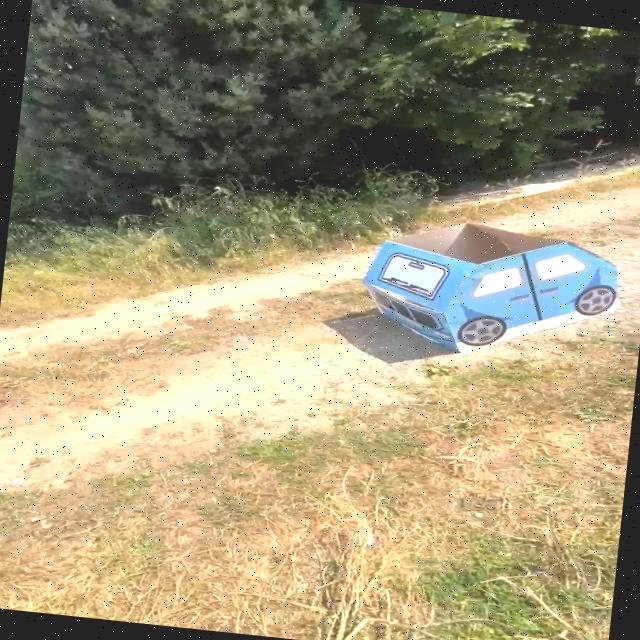blue_car: (343, 201, 640, 381)
